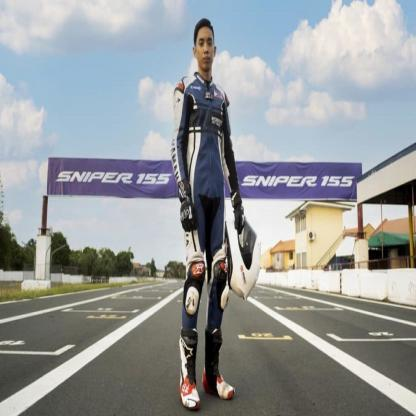helmet: (224, 209, 263, 302)
nohelmet: (193, 17, 218, 73)
